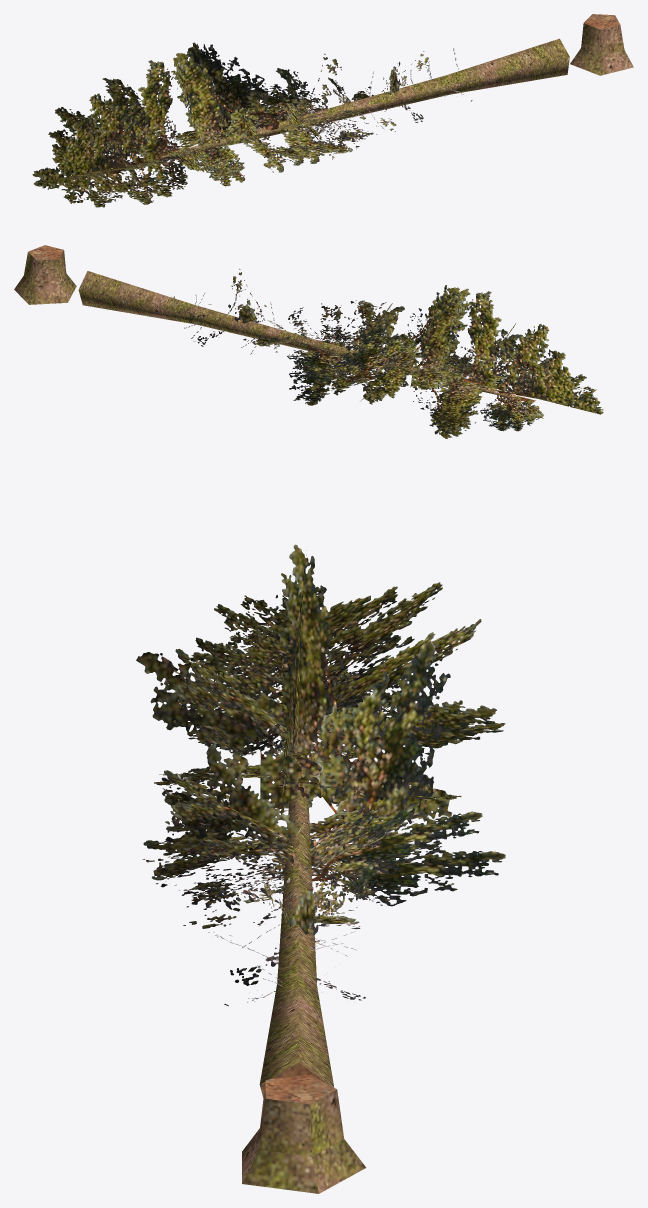
Rendered from SM_Tree_Fell_03.fbx.
The picture shows the model from 3 angles, top to bottom: view 1: azimuth 30°, elevation 25°; view 2: azimuth 150°, elevation 25°; view 3: azimuth 270°, elevation 25°; orthographic projection. The views are drawn at different scales.
Parts seen in each view (by area): view 1: Tree_Fell_03; view 2: Tree_Fell_03; view 3: Tree_Fell_03.
Boxes of the visible parts, bbox=[...] form: Tree_Fell_03: bbox=[32, 14, 633, 207]; Tree_Fell_03: bbox=[14, 245, 603, 438]; Tree_Fell_03: bbox=[136, 544, 505, 1193].
Bounding box in the file's own units: 1500 × 464 × 296.
